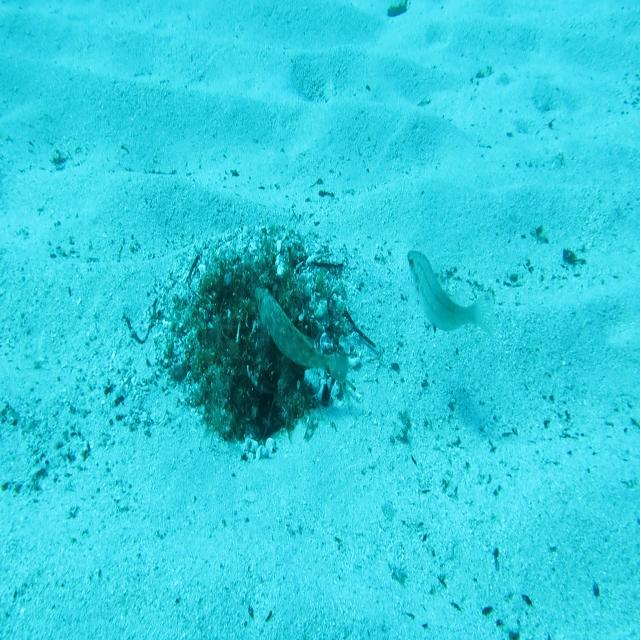FAN: (254, 285, 351, 388)
core_nest: (229, 278, 279, 318)
female: (406, 246, 496, 349)
nest: (153, 226, 364, 467)
vegetation: (384, 1, 410, 23)
